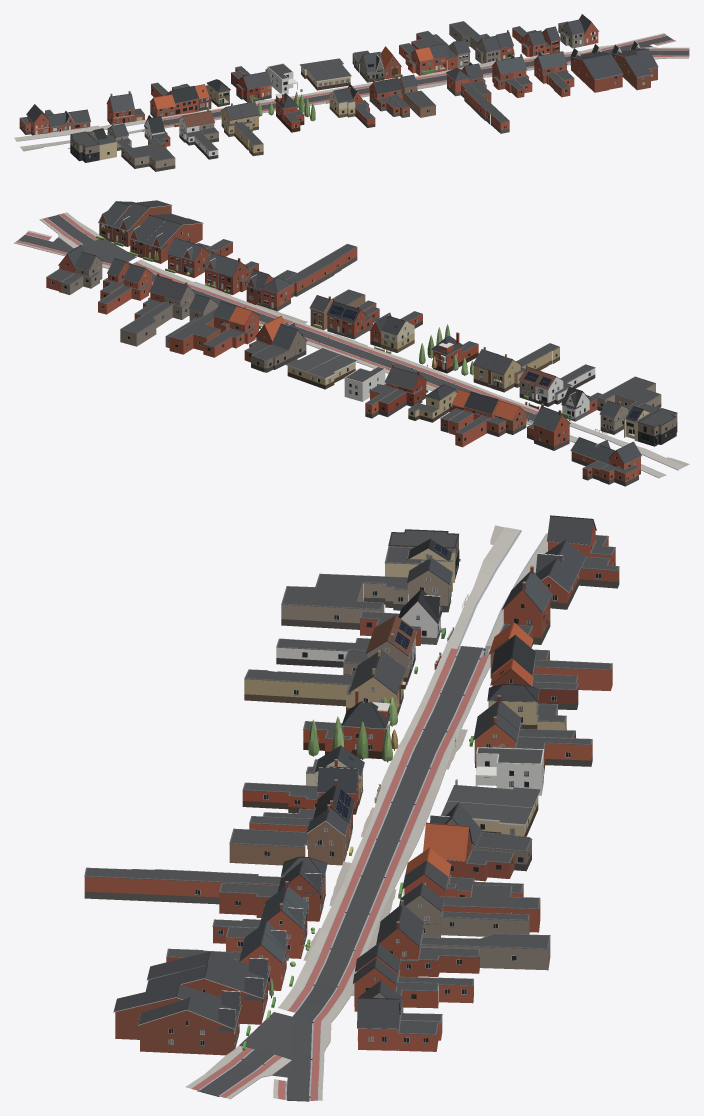
Rendered from molenhoek.glb.
3 views of the same model, one above another, from view 1: azimuth 30°, elevation 25°; view 2: azimuth 150°, elevation 25°; view 3: azimuth 270°, elevation 25° (orthographic). The views are drawn at different scales.
Visible parts, largest first — view 1: mh_brick, mh_stone, mh_roof, mh_asphalt, mh_pavers, mh_glass, mh_render, mh_detail_e, mh_detail_m, mh_detail_w, mh_foliage, mh_panel; view 2: mh_brick, mh_stone, mh_roof, mh_asphalt, mh_pavers, mh_glass, mh_render, mh_detail_e, mh_detail_m, mh_foliage, mh_detail_w, mh_panel; view 3: mh_brick, mh_stone, mh_roof, mh_asphalt, mh_pavers, mh_render, mh_glass, mh_detail_e, mh_detail_m, mh_foliage, mh_detail_w.
Part boxes in pixels (x1,y1,x2,y2): mh_brick: [19, 22, 657, 168]; mh_stone: [16, 21, 688, 171]; mh_roof: [26, 14, 658, 140]; mh_asphalt: [162, 34, 689, 126]; mh_pavers: [14, 33, 689, 151]; mh_glass: [20, 27, 652, 165]; mh_render: [69, 59, 380, 162]; mh_detail_e: [410, 14, 689, 128]; mh_detail_m: [152, 46, 428, 151]; mh_detail_w: [27, 91, 214, 165]; mh_foliage: [249, 49, 570, 120]; mh_panel: [35, 32, 597, 134]; mh_brick: [46, 205, 677, 482]; mh_stone: [16, 213, 678, 486]; mh_roof: [67, 200, 643, 464]; mh_asphalt: [16, 213, 537, 423]; mh_pavers: [14, 212, 689, 478]; mh_glass: [52, 214, 671, 479]; mh_render: [102, 214, 677, 446]; mh_detail_e: [22, 201, 349, 347]; mh_detail_m: [249, 295, 556, 440]; mh_foliage: [96, 236, 568, 418]; mh_detail_w: [492, 367, 672, 479]; mh_panel: [102, 224, 656, 443]; mh_brick: [84, 522, 619, 1055]; mh_stone: [84, 529, 619, 1100]; mh_roof: [114, 516, 593, 1031]; mh_asphalt: [192, 645, 489, 1101]; mh_pavers: [185, 525, 547, 1100]; mh_render: [276, 549, 543, 795]; mh_glass: [169, 542, 613, 1045]; mh_detail_e: [113, 847, 516, 1097]; mh_detail_m: [263, 634, 570, 877]; mh_foliage: [242, 628, 473, 1050]; mh_detail_w: [302, 515, 600, 666].
Bounding box in the file's own units: 310 × 15.53 × 120.
